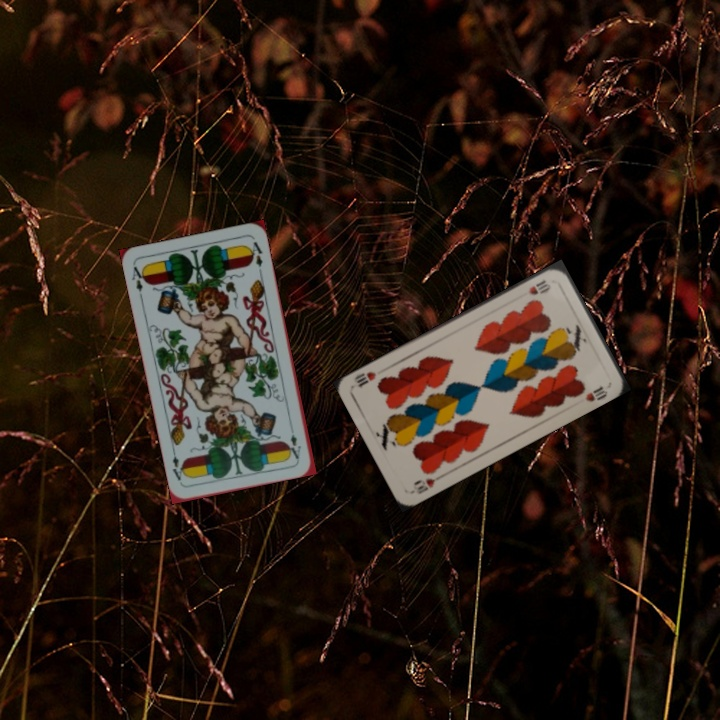EA: (128, 262, 149, 301), (286, 430, 303, 462)
H10: (409, 474, 438, 497), (524, 276, 553, 297)
